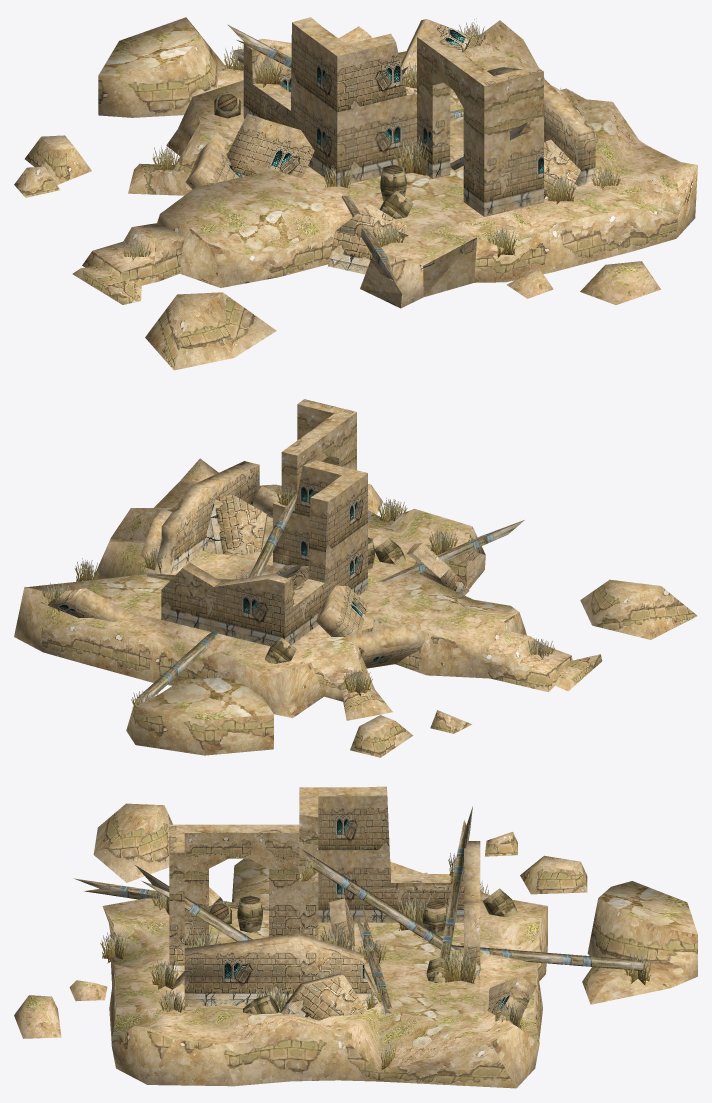
3 views of the same model, one above another, from view 1: azimuth 30°, elevation 25°; view 2: azimuth 150°, elevation 25°; view 3: azimuth 270°, elevation 25° (orthographic). The views are drawn at different scales.
Parts seen in each view (by area): view 1: geom_node_6, geom_node_4, geom_node_0, geom_node_8, geom_node_9, geom_node_2, geom_node_5, geom_node_3, geom_node_1, geom_node_7; view 2: geom_node_0, geom_node_4, geom_node_3, geom_node_6, geom_node_8, geom_node_2, geom_node_9, geom_node_5, geom_node_1; view 3: geom_node_8, geom_node_3, geom_node_6, geom_node_0, geom_node_2, geom_node_9, geom_node_5, geom_node_1, geom_node_4, geom_node_7.
Part boxes in pixels (left/top/right/bottom): geom_node_6: left=327, top=32, right=633, bottom=308; geom_node_4: left=72, top=32, right=408, bottom=304; geom_node_0: left=128, top=17, right=322, bottom=195; geom_node_8: left=450, top=67, right=697, bottom=251; geom_node_9: left=304, top=27, right=463, bottom=188; geom_node_2: left=98, top=17, right=243, bottom=117; geom_node_5: left=145, top=292, right=276, bottom=370; geom_node_3: left=339, top=18, right=544, bottom=124; geom_node_1: left=14, top=135, right=91, bottom=197; geom_node_7: left=580, top=261, right=660, bottom=304; geom_node_0: left=189, top=491, right=424, bottom=720; geom_node_4: left=338, top=473, right=602, bottom=692; geom_node_3: left=14, top=491, right=297, bottom=685; geom_node_6: left=206, top=399, right=485, bottom=595; geom_node_8: left=74, top=458, right=274, bottom=581; geom_node_2: left=126, top=659, right=273, bottom=755; geom_node_9: left=139, top=452, right=367, bottom=590; geom_node_5: left=580, top=579, right=697, bottom=639; geom_node_1: left=350, top=710, right=471, bottom=757; geom_node_8: left=111, top=933, right=396, bottom=1086; geom_node_3: left=305, top=851, right=550, bottom=1088; geom_node_6: left=69, top=824, right=299, bottom=1041; geom_node_0: left=364, top=786, right=547, bottom=980; geom_node_2: left=550, top=881, right=697, bottom=1004; geom_node_9: left=299, top=787, right=391, bottom=1015; geom_node_5: left=93, top=803, right=172, bottom=882; geom_node_1: left=485, top=832, right=587, bottom=894; geom_node_4: left=75, top=858, right=268, bottom=912; geom_node_7: left=14, top=995, right=61, bottom=1038.
Size of the model in its own units: 15.4 by 4.74 by 17.05.
24 materials, 24 textured.
